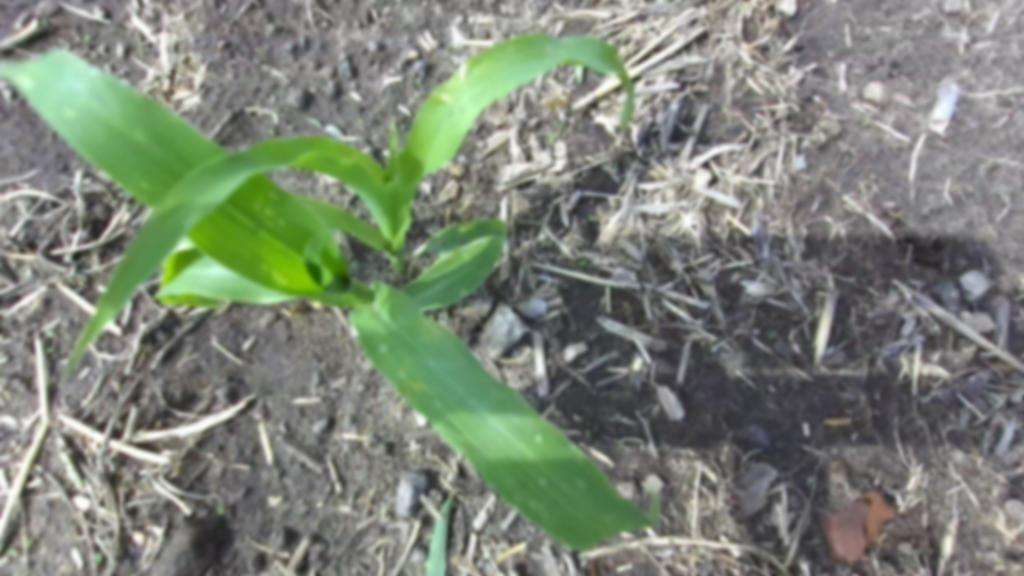BroWeed: (302, 114, 347, 139), (137, 307, 170, 332), (66, 267, 91, 290), (42, 319, 61, 342), (122, 199, 141, 219), (544, 97, 570, 111), (3, 545, 19, 560), (108, 198, 120, 218), (91, 248, 101, 266), (575, 65, 584, 84), (94, 551, 104, 564), (215, 503, 225, 516), (493, 119, 507, 128), (80, 32, 91, 43), (26, 535, 34, 549), (45, 346, 56, 353), (559, 121, 568, 129), (576, 260, 588, 266), (548, 133, 555, 142)
Maize: (13, 1, 668, 407), (424, 492, 454, 576)
